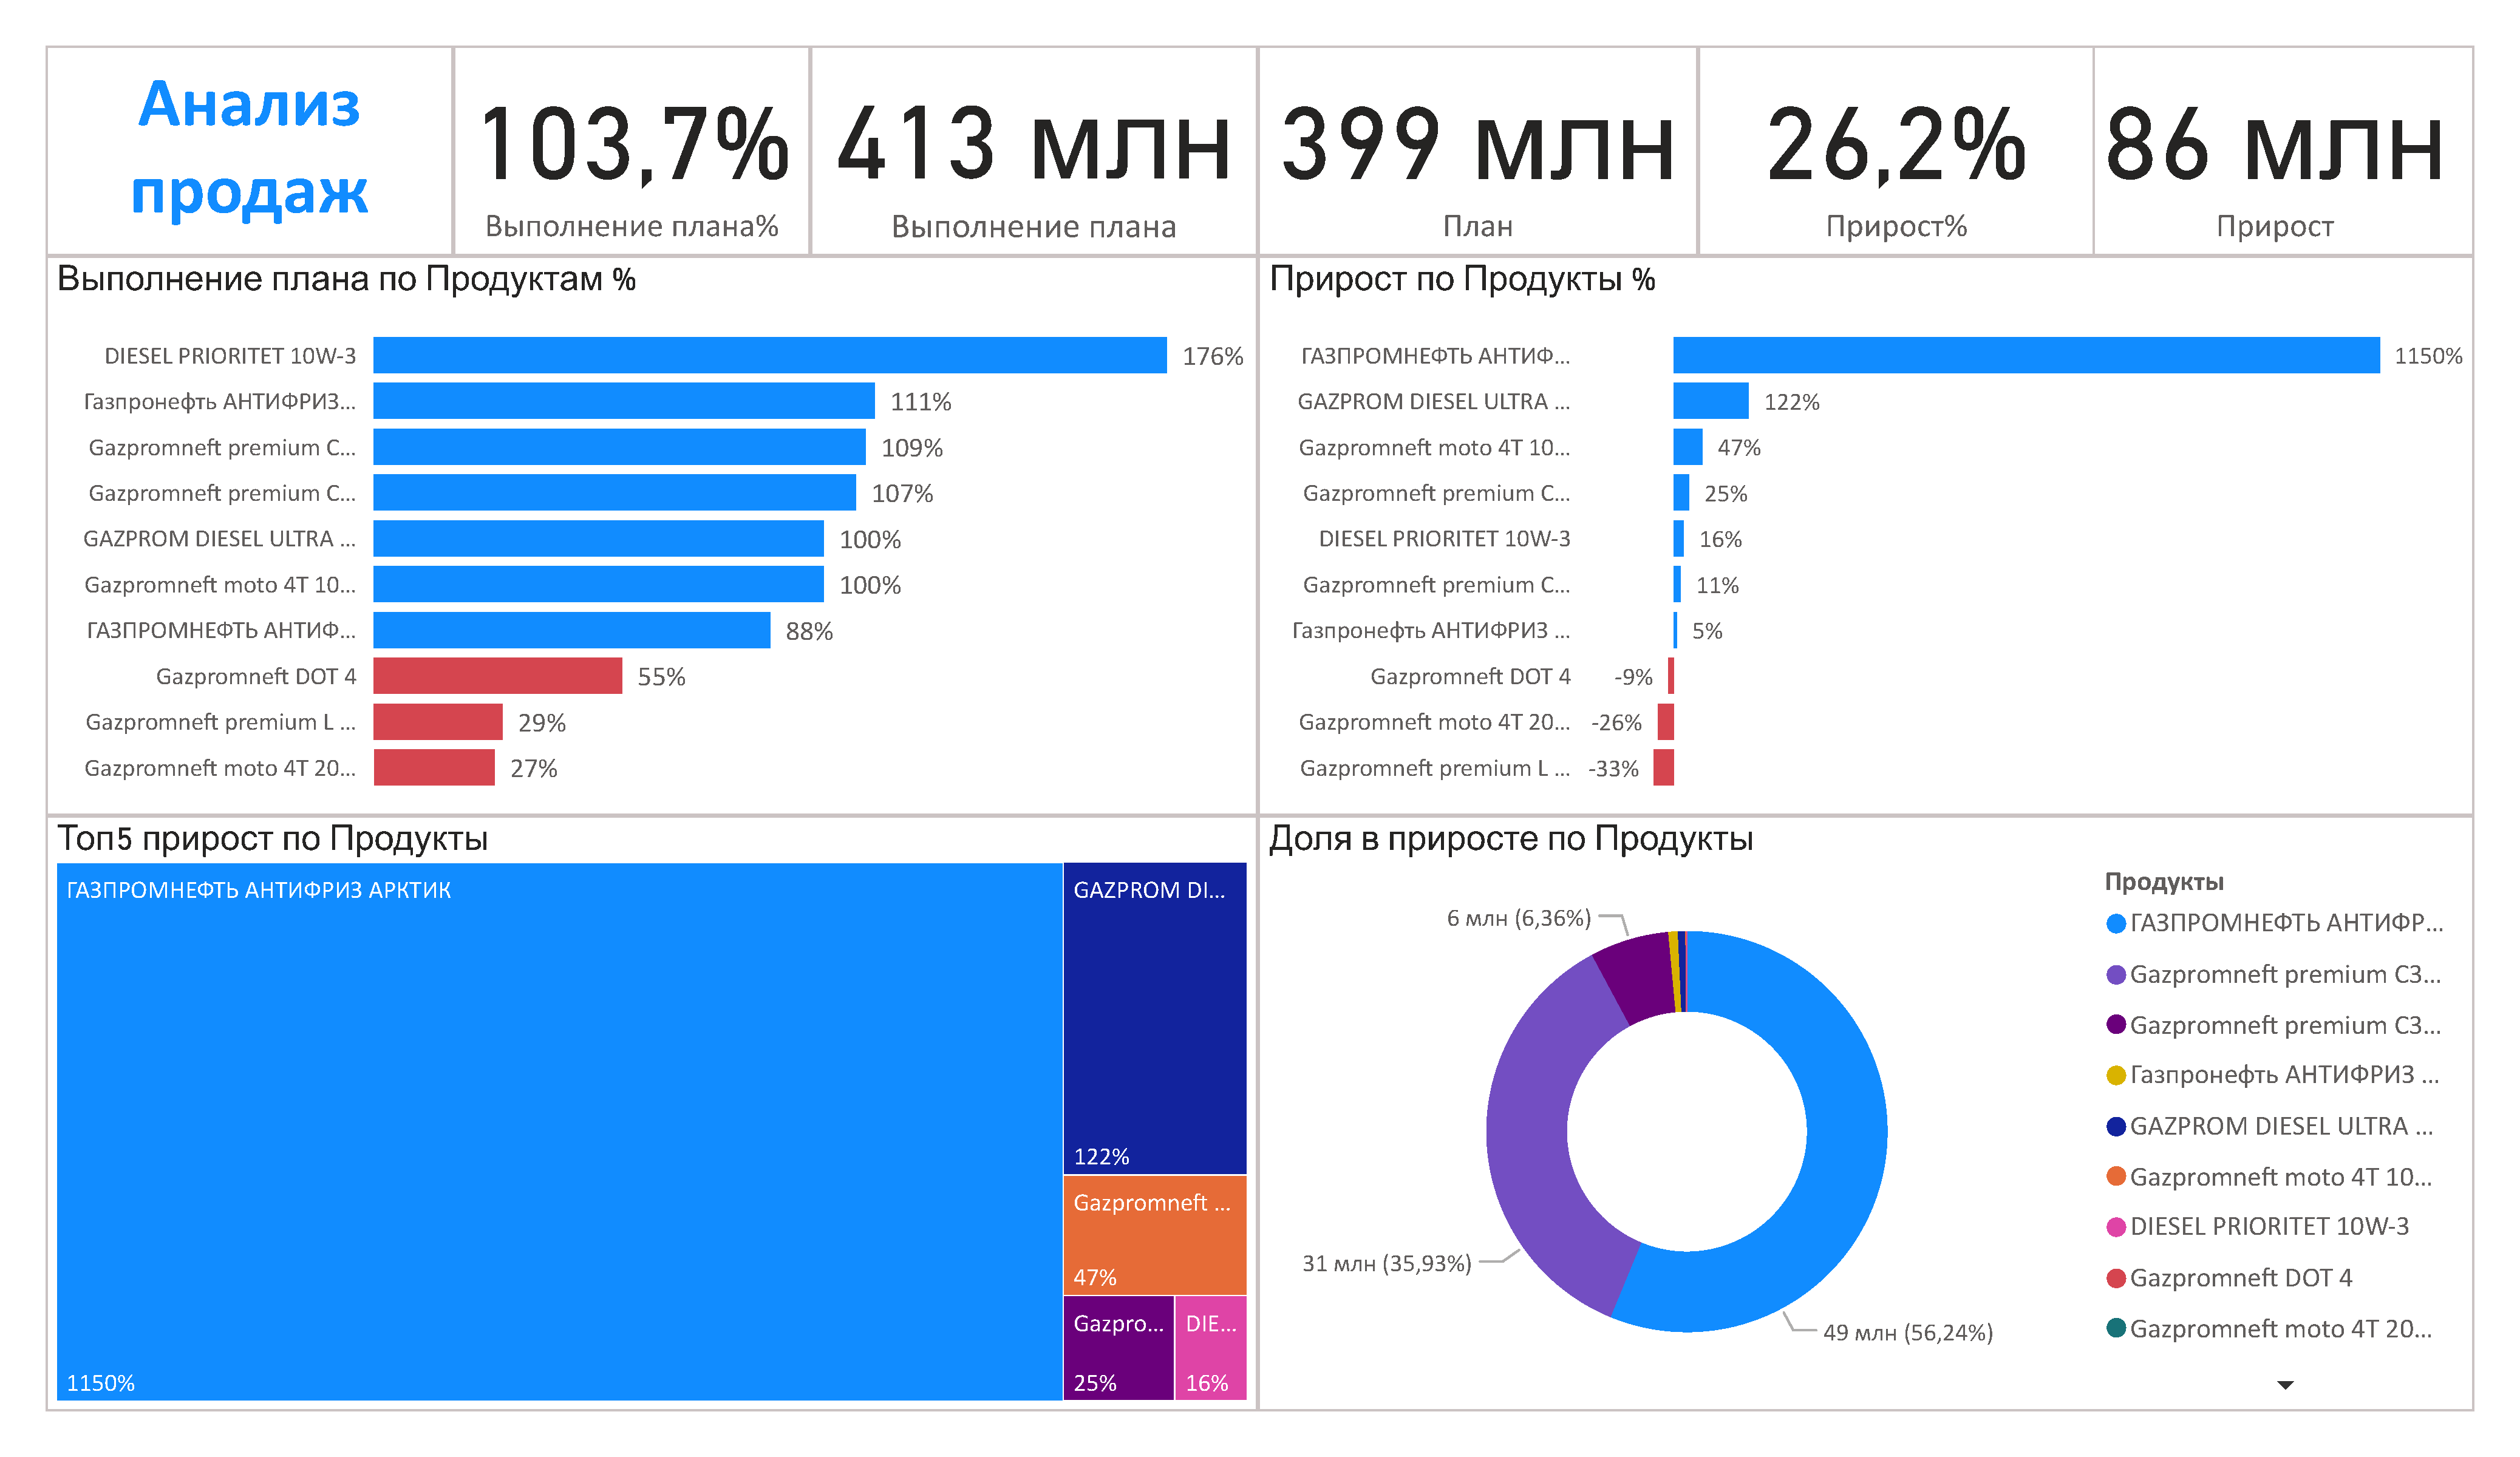

The dashboard page shown, as its layout file describes it:
{"tool":"powerbi","page":{"name":"Страница 1","canvas":[1280,720],"ordinal":0},"visuals":[{"type":"card","fields":{"Values":["Sum(Base.Факт)"]},"box":[423.8,0,215.4,104.9],"z":1000},{"type":"card","fields":{"Values":["Sum(Base.План)"]},"box":[639.2,0,208.3,105],"z":2000},{"type":"card","fields":{"Values":["Base.Sales%"]},"box":[215.4,0,208.3,104.9],"z":3000},{"type":"clusteredBarChart","title":"Выполнение плана по продуктам","fields":{"Category":["Base.Продукты"],"Y":["Base.Факт%"]},"box":[8.5,112,470.6,286.3],"z":4000},{"type":"card","fields":{"Values":["Sum(Base.Прирост)"]},"box":[848.2,0,229,105],"z":5000},{"type":"card","fields":{"Values":["Base.Прирост%"]},"box":[1077.1,0,203,105],"z":6000},{"type":"clusteredBarChart","title":"Прирост по продуктам ","fields":{"Category":["Base.Продукты"],"Y":["Base.Прирост%"]},"box":[8.5,408.2,470.6,306.1],"z":7000},{"type":"pieChart","title":"Доля продаж по продуктам","fields":{"Category":["Base.Продукты"],"Y":["Sum(Base.Факт)"]},"box":[487.6,112,470.6,286.3],"z":8000},{"type":"treemap","title":"Топ-5 продуктов по приросту","fields":{"Group":["Base.Продукты"],"Values":["Base.Прирост%"]},"box":[487.6,408.2,470.6,306.1],"z":9000},{"type":"tableEx","title":"Продажи по продуктам в RUR","fields":{"Values":["Base.Продукты","Sum(Base.Факт)"]},"box":[966.6,112,307.6,286.3],"z":11000},{"type":"tableEx","title":"Прирост по продуктам в RUR","fields":{"Values":["Base.Продукты","Sum(Base.Прирост)"]},"box":[966.6,408.2,307.6,306.1],"z":12000},{"type":"textbox","box":[8.5,0,206.9,104.9],"z":12001}]}

Visuals, with their boxes in screenshot pixels (x1, y1, x2, y2):
card - Sum(Base.Факт): 850, 46, 1258, 245
card - Sum(Base.План): 1258, 46, 1653, 245
card - Base.Sales%: 454, 46, 850, 245
"Выполнение плана по продуктам" clusteredBarChart: 62, 258, 955, 801
card - Sum(Base.Прирост): 1655, 46, 2089, 245
card - Base.Прирост%: 2089, 46, 2474, 245
"Прирост по продуктам " clusteredBarChart: 62, 820, 955, 1401
"Доля продаж по продуктам" pieChart: 971, 258, 1864, 801
"Топ-5 продуктов по приросту" treemap: 971, 820, 1864, 1401
"Продажи по продуктам в RUR" tableEx: 1880, 258, 2464, 801
"Прирост по продуктам в RUR" tableEx: 1880, 820, 2464, 1401
textbox: 62, 46, 454, 245
